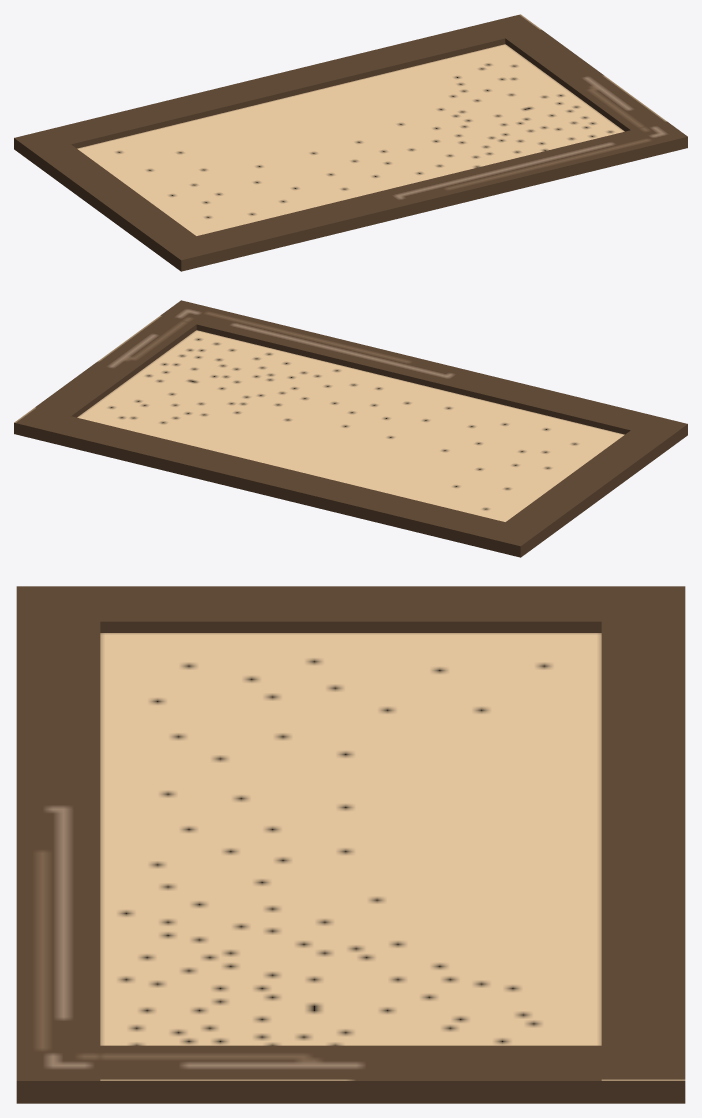
File: cork_board.fbx
3 views of the same model, one above another, from view 1: azimuth 30°, elevation 25°; view 2: azimuth 150°, elevation 25°; view 3: azimuth 270°, elevation 25° (orthographic). The views are drawn at different scales.
Visible parts, largest first — view 1: cube_4, cube_3, cube_1, cube_2, cube; view 2: cube_4, cube_1, cube_3, cube_2, cube; view 3: cube_4, cube_1, cube_3, cube, cube_2.
Part boxes in pixels (<box>): cube_4: <box>77,44,624,235</box>; cube_3: <box>160,121,687,271</box>; cube_1: <box>14,14,541,164</box>; cube_2: <box>35,144,195,255</box>; cube: <box>505,29,666,131</box>; cube_4: <box>77,330,624,521</box>; cube_1: <box>14,407,541,557</box>; cube_3: <box>160,300,687,450</box>; cube_2: <box>506,430,666,541</box>; cube: <box>35,315,196,417</box>; cube_4: <box>100,633,601,1045</box>; cube_1: <box>601,586,685,1103</box>; cube_3: <box>16,586,100,1103</box>; cube: <box>100,1045,601,1103</box>; cube_2: <box>100,586,601,632</box>.
Size of the model in its own units: 175 by 3.75 by 100.
1 material, 1 textured.
